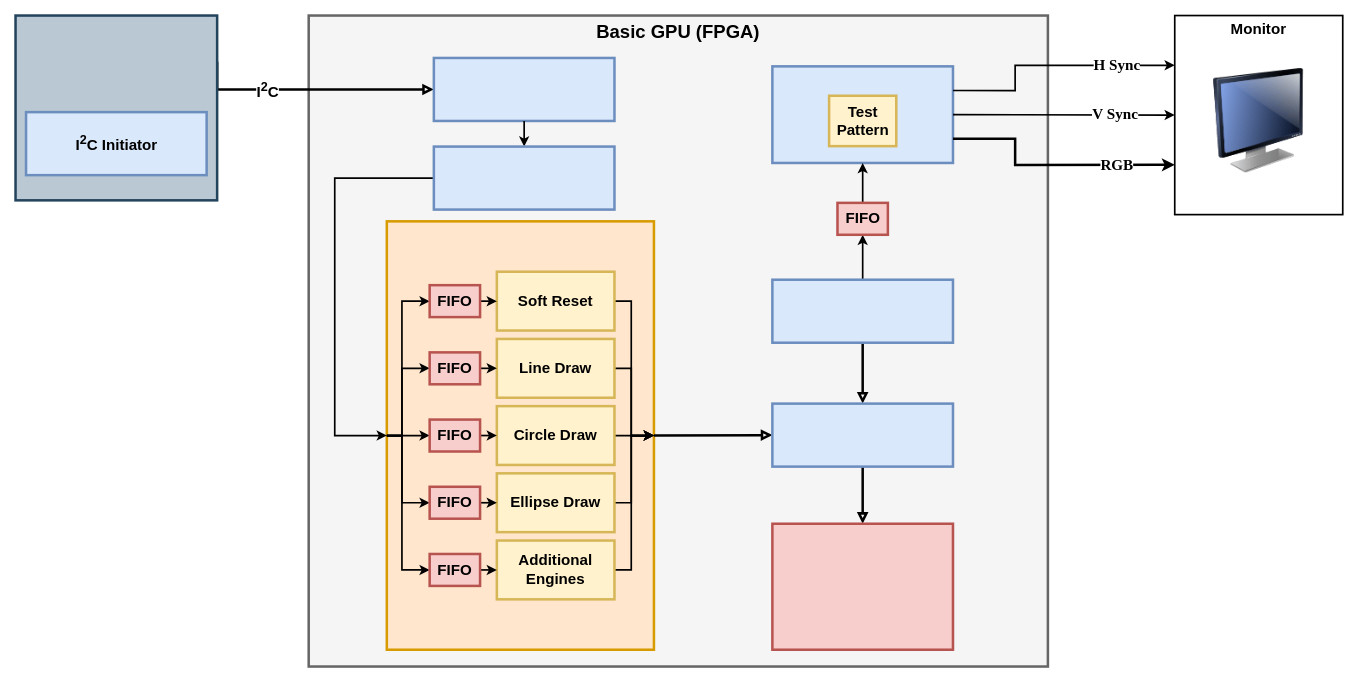
Image size: 1358x682. Some labels were removed from this diagram. Each missing label, with the box of its shape:
2D Engine: (385, 220, 655, 651)
Arbiter: (771, 402, 954, 467)
Command Processor: (432, 145, 615, 210)
Data Fetching Engine: (771, 278, 954, 344)
Host Device (PSoC): (14, 14, 218, 201)
I 2 C Target: (432, 56, 615, 122)
Random Access Memory (RAM): (771, 522, 954, 651)
Refresh Engine: (771, 65, 954, 164)
